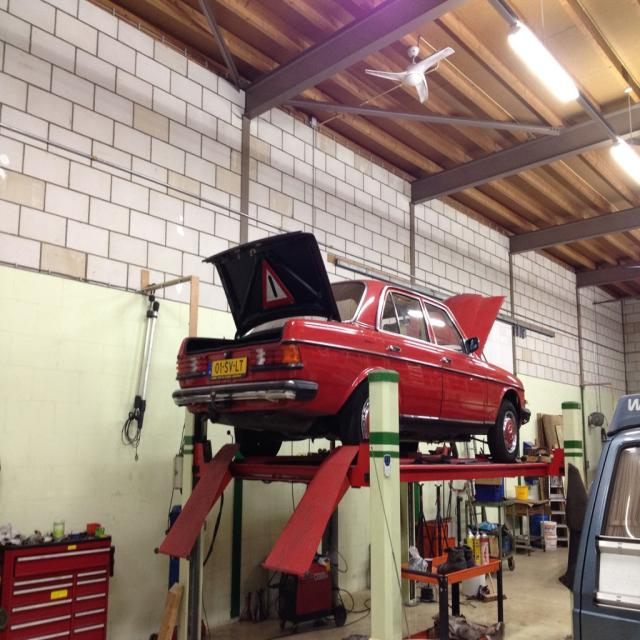car: (177, 227, 530, 461)
